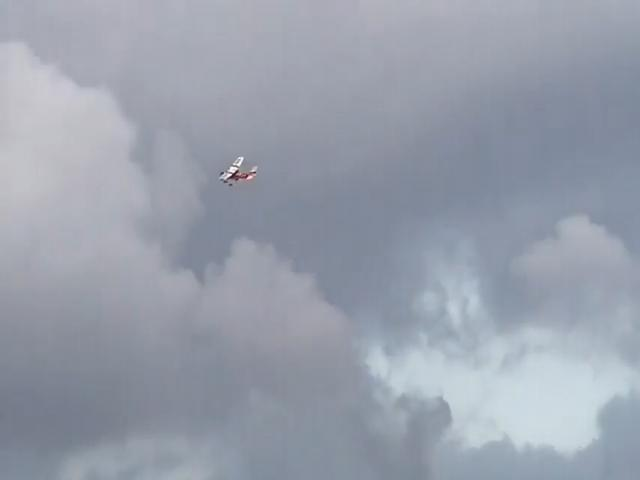plane: (220, 157, 257, 187)
